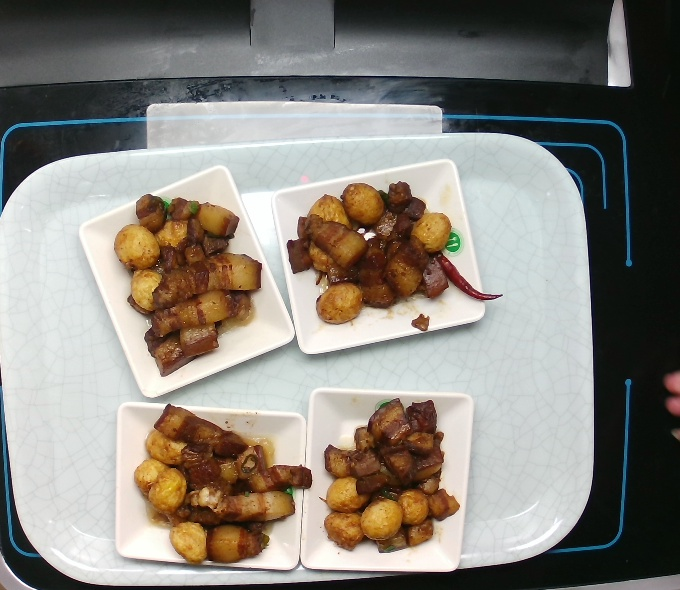wcq-HongShaoRouChaoAnChunDan: (276, 171, 505, 333), (134, 393, 313, 583), (86, 191, 265, 381), (310, 385, 467, 565)
